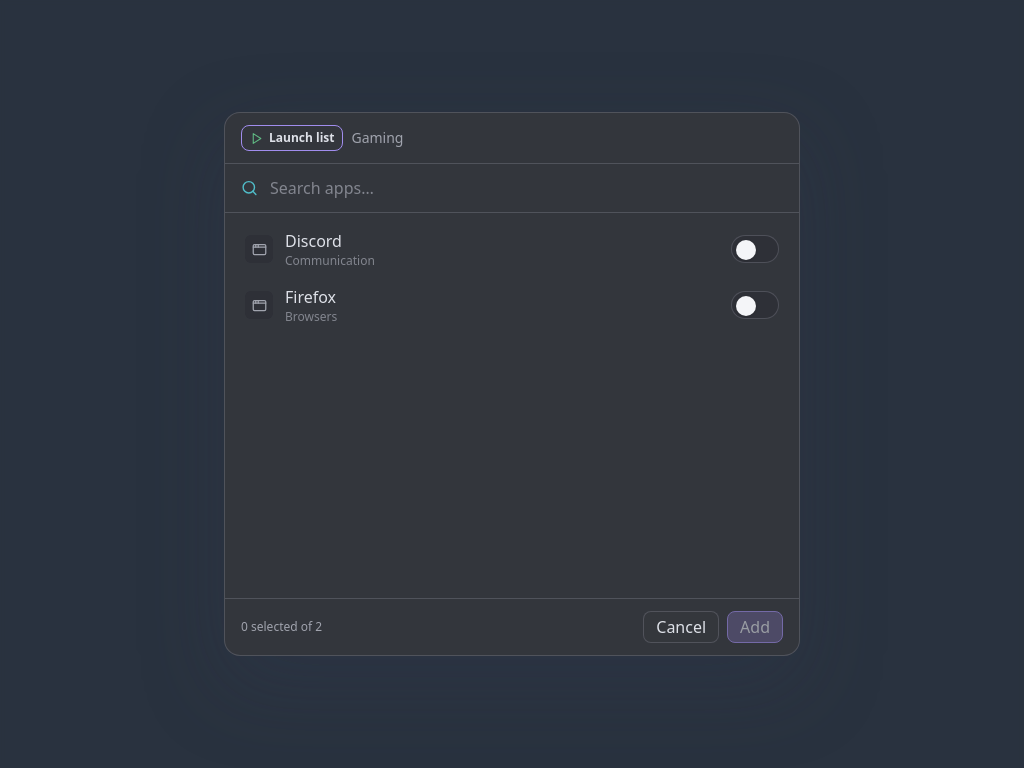
Test case: AppPickerDialog › keeps a switched-on app on while the query narrows and widens
Click the switch labelled "Discord Communication": point(313, 241) x1=233 y1=221 x2=791 y2=277
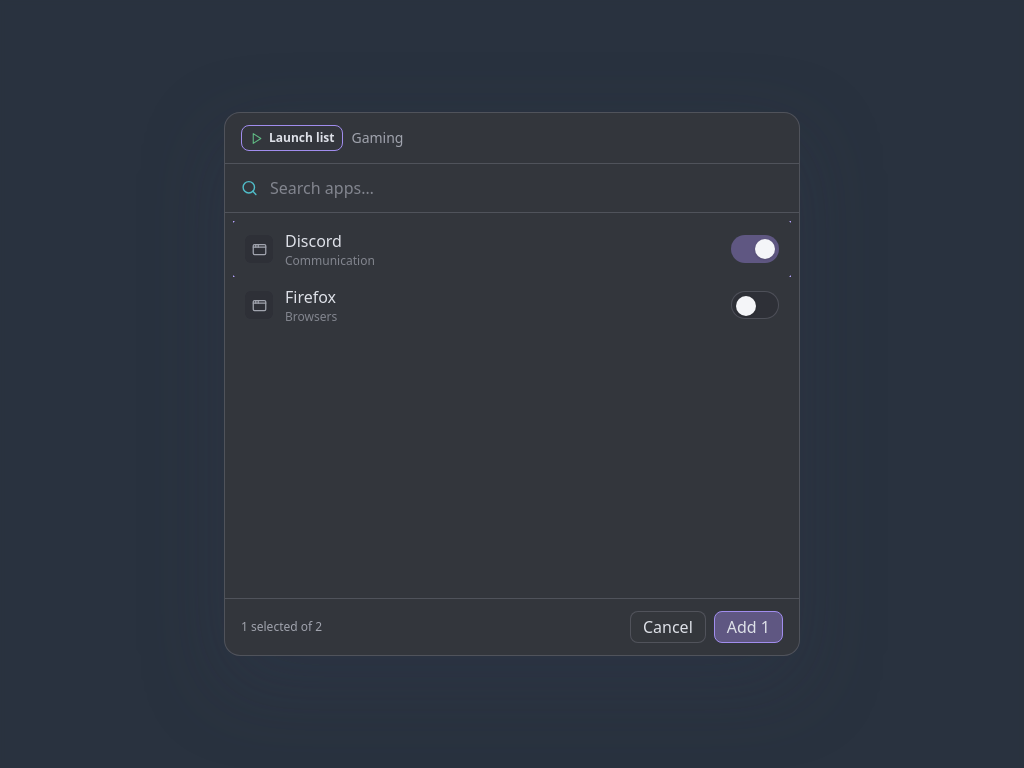
In the search field named "Add an app to the launch list of Gaming": point(526, 188) x1=270 y1=164 x2=783 y2=212, type "fire"
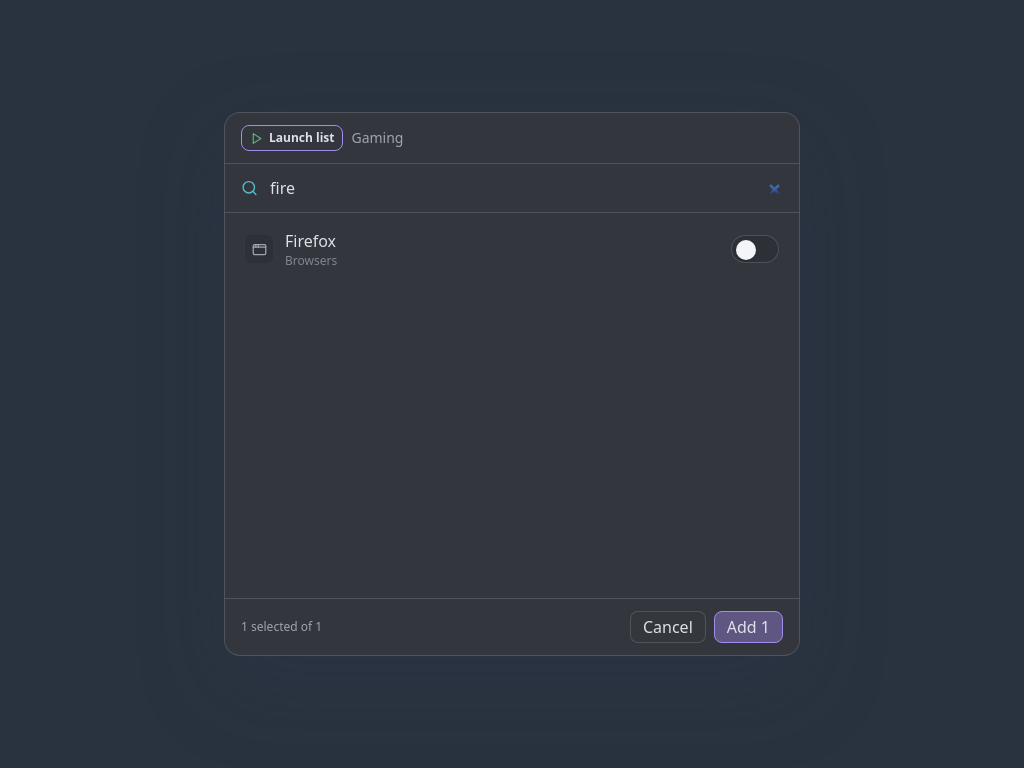
Clear the search field named "Add an app to the launch list of Gaming": point(526, 188) x1=270 y1=164 x2=783 y2=212
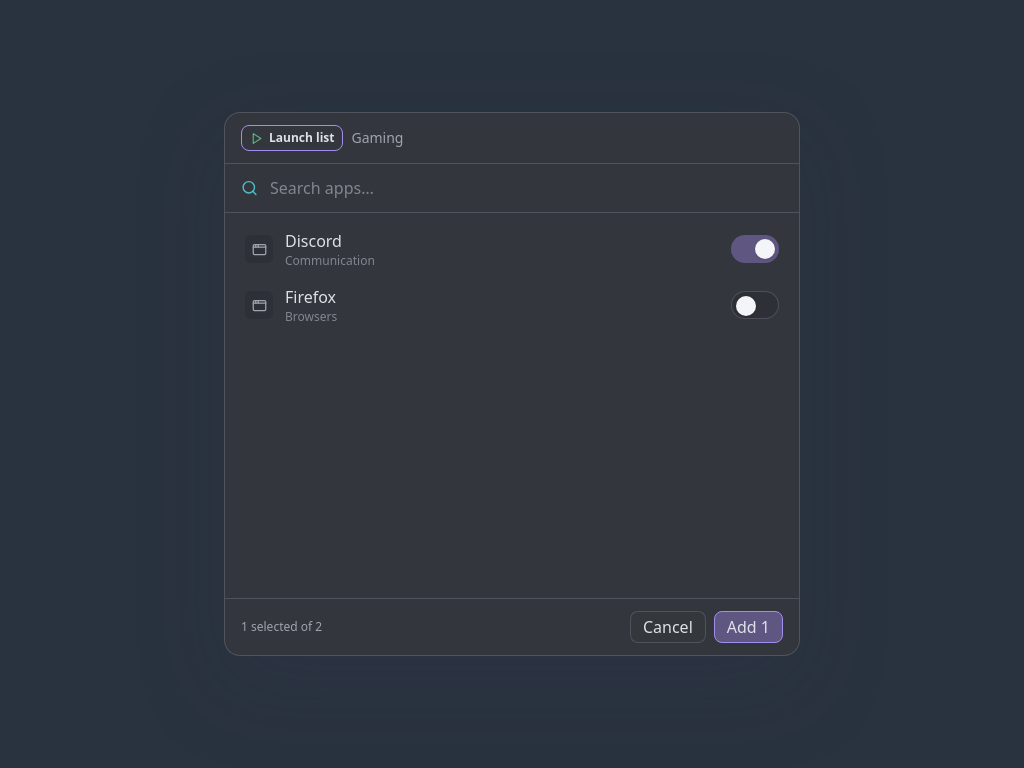
Check: the switch labelled "Discord Communication" is checked, box x1=233 y1=221 x2=791 y2=277
